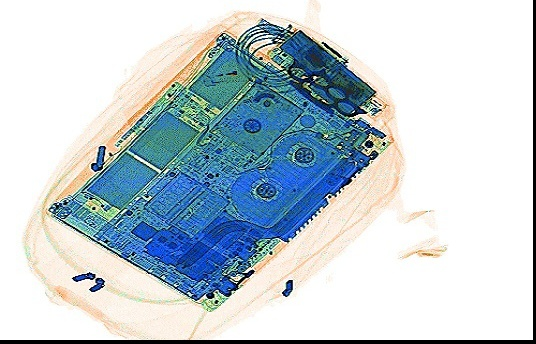lighter: (201, 65, 250, 86)
powerbank: (272, 25, 378, 116)
